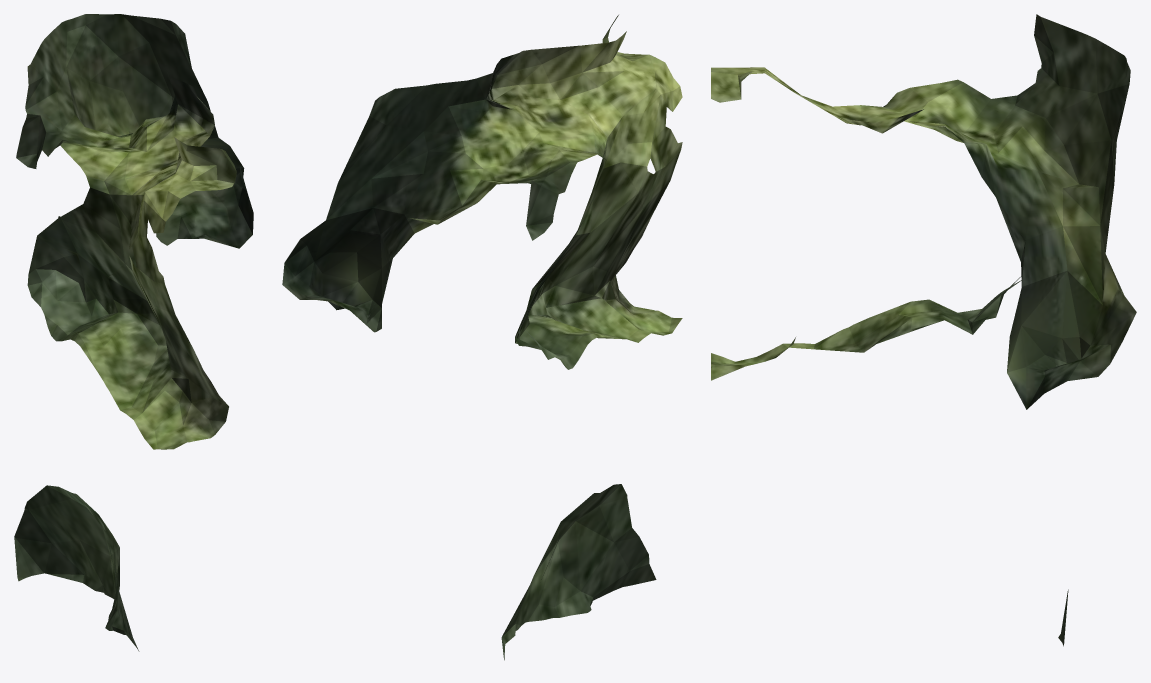
3 views of the same model, side by side, from view 1: azimuth 30°, elevation 25°; view 2: azimuth 150°, elevation 25°; view 3: azimuth 270°, elevation 25° (orthographic). The views are drawn at different scales.
Size of the model in its own units: 2.79 by 5.9 by 3.65.
2 materials, 2 textured.
